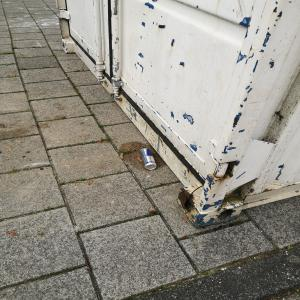Can: (137, 146, 161, 173)
